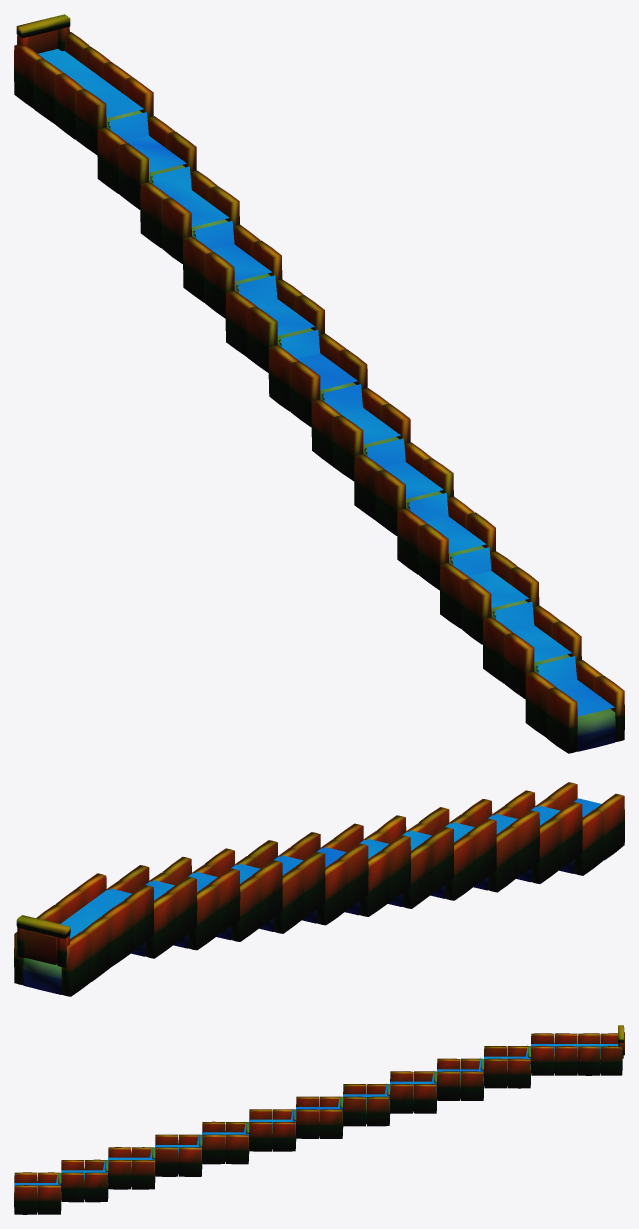
File: weir_leat.glb
3 views of the same model, one above another, from view 1: azimuth 30°, elevation 25°; view 2: azimuth 150°, elevation 25°; view 3: azimuth 270°, elevation 25° (orthographic). The views are drawn at different scales.
Parts seen in each view (by area): view 1: weir_leat; view 2: weir_leat; view 3: weir_leat.
Boxes of the visible parts, <box> form: weir_leat: <box>14,14,624,753</box>; weir_leat: <box>14,782,624,996</box>; weir_leat: <box>14,1025,624,1214</box>.
Size of what is drawn, in the model's own units: 1.57 by 8.28 by 26.02.
